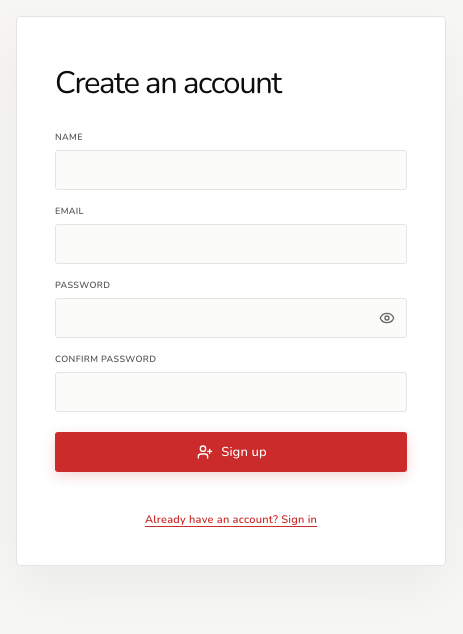
Test: AuthPanel › rejects registration when passwords do not match
In the field labelled "Name": (231,170) x1=55 y1=150 x2=407 y2=190, type "M"
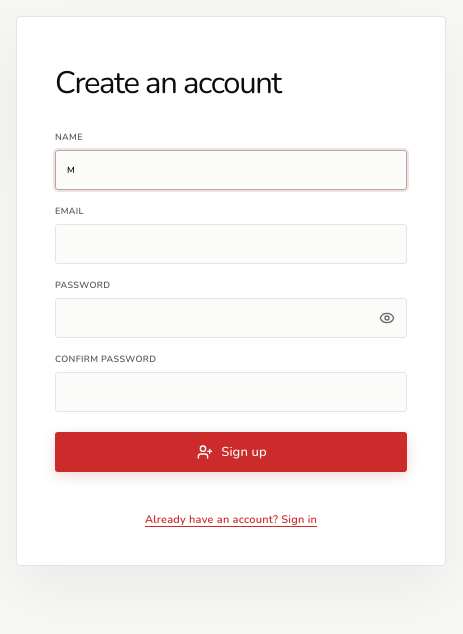
In the field labelled "Email": (231,244) x1=55 y1=224 x2=407 y2=264, type "m@example.com"
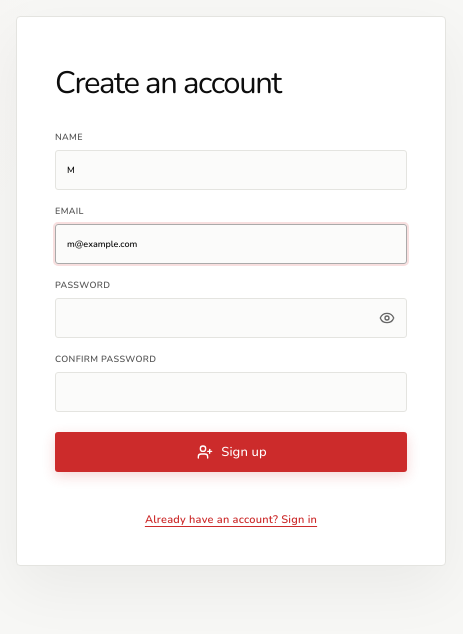
In the password field labelled "Password": (231,318) x1=55 y1=298 x2=407 y2=338, type "password1"
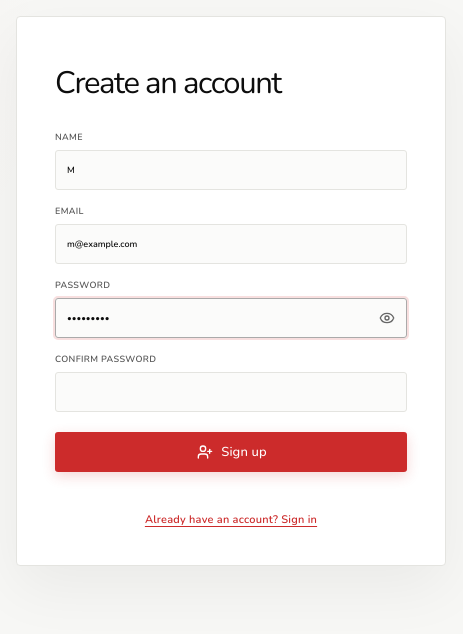
In the password field labelled "Confirm password": (231,392) x1=55 y1=372 x2=407 y2=412, type "password2"
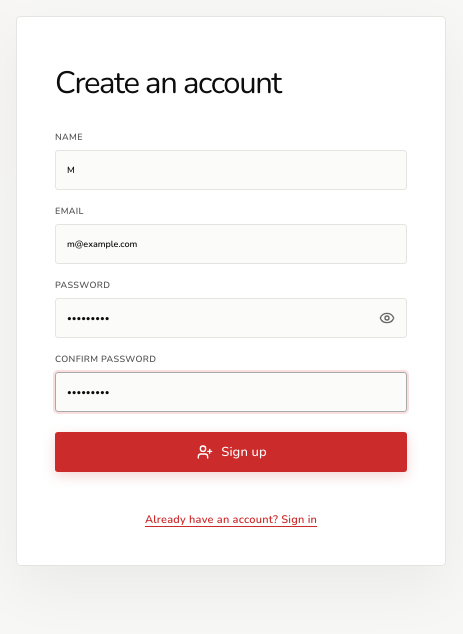
Click the button "Sign up": (231,452) x1=55 y1=432 x2=407 y2=472
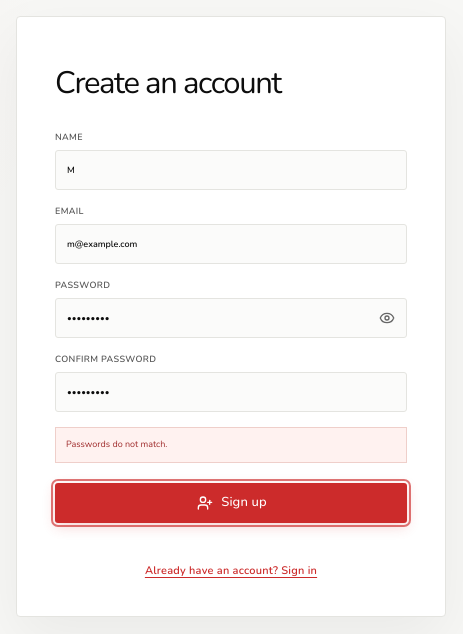
Check: the text "Passwords do not match." is shown, box x1=55 y1=427 x2=407 y2=462
